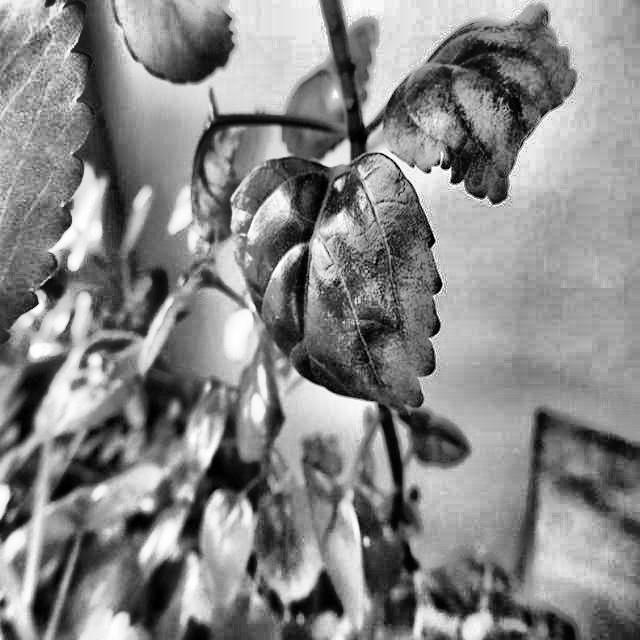plants: (5, 0, 640, 639), (236, 164, 438, 413), (392, 12, 577, 154), (190, 128, 230, 232)
